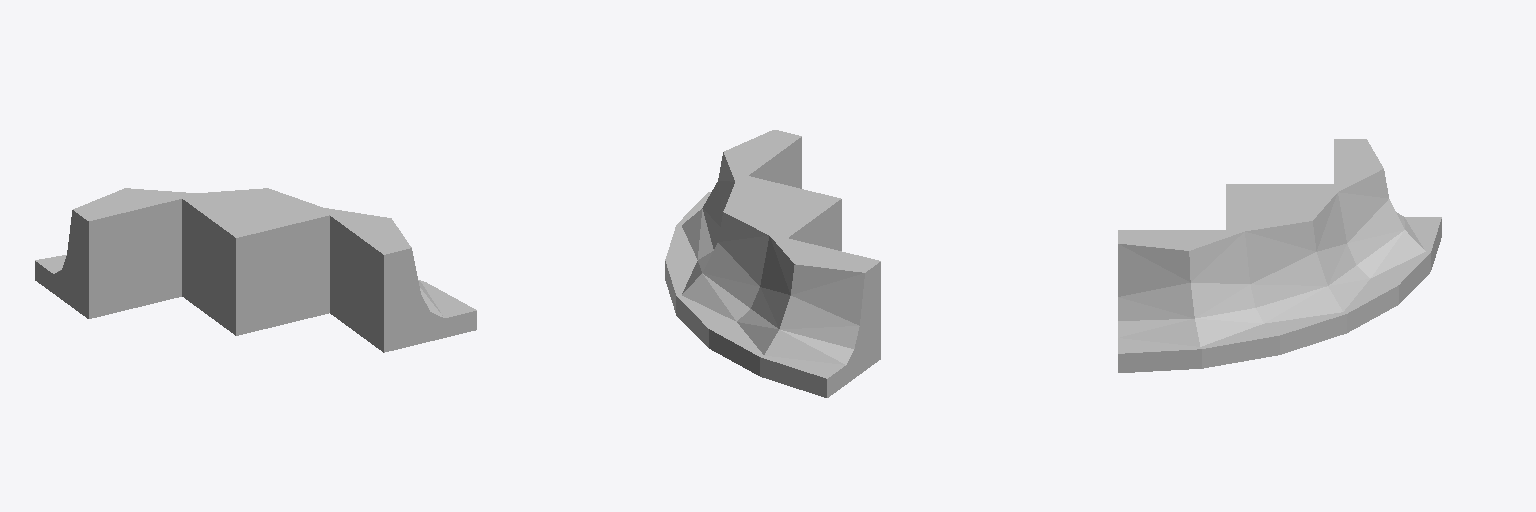
The model's file is Cliff_Base_Corner_Outer_Lg.obj.
3 renders of one model, left to right at view 1: azimuth 30°, elevation 25°; view 2: azimuth 150°, elevation 25°; view 3: azimuth 270°, elevation 25°, orthographic.
Parts seen in each view (by area): view 1: object1; view 2: object1; view 3: object1.
Part boxes in pixels (left/top/right/bottom): object1: left=35, top=188, right=476, bottom=352; object1: left=665, top=130, right=880, bottom=397; object1: left=1118, top=139, right=1441, bottom=372.
Bounding box in the file's own units: 3 × 1 × 3.